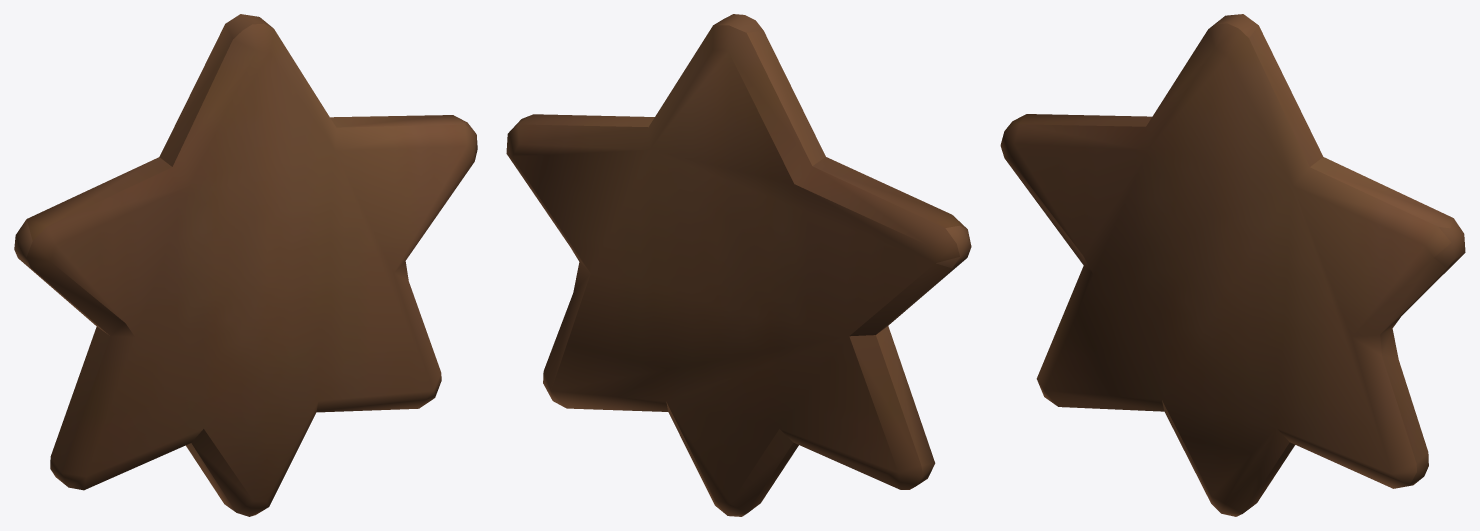
Rendered from sheriff_star.glb.
The picture shows the model from 3 angles, left to right: view 1: azimuth 30°, elevation 25°; view 2: azimuth 150°, elevation 25°; view 3: azimuth 330°, elevation 25°; orthographic projection.
Visible parts, largest first — view 1: a_small_gold_six_pointed_sheriff_star_ba; view 2: a_small_gold_six_pointed_sheriff_star_ba; view 3: a_small_gold_six_pointed_sheriff_star_ba.
Boxes of the visible parts, left/top/right/bottom form: a_small_gold_six_pointed_sheriff_star_ba: left=14, top=14, right=477, bottom=516; a_small_gold_six_pointed_sheriff_star_ba: left=506, top=14, right=971, bottom=516; a_small_gold_six_pointed_sheriff_star_ba: left=1000, top=14, right=1465, bottom=516.
Size of the model in its own units: 0.0575 by 0.0599 by 0.00647.
1 material, 1 textured.
